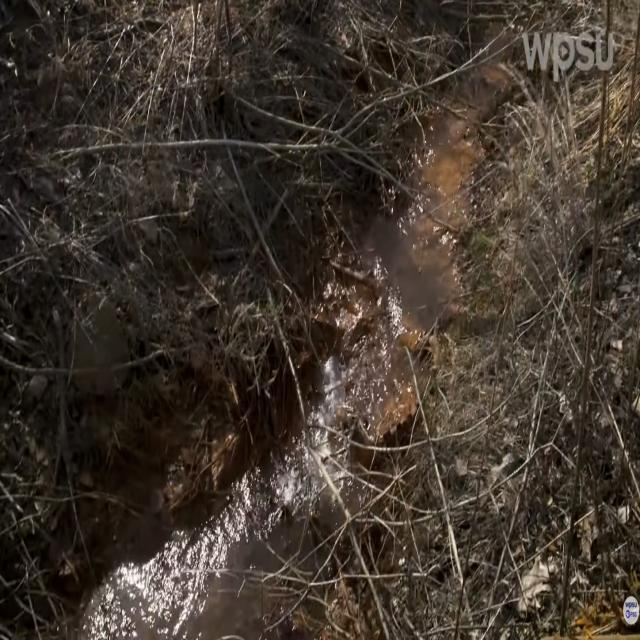yellow_boy: (83, 109, 481, 639)
